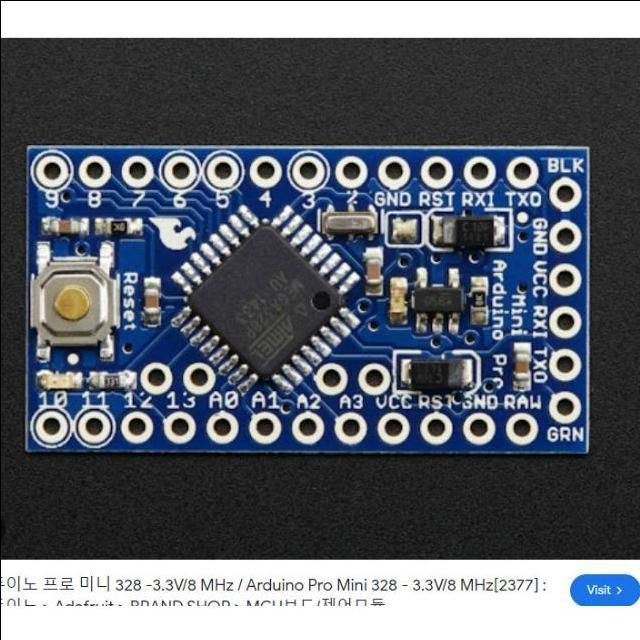Arduino-ProMini: (26, 146, 591, 456)
